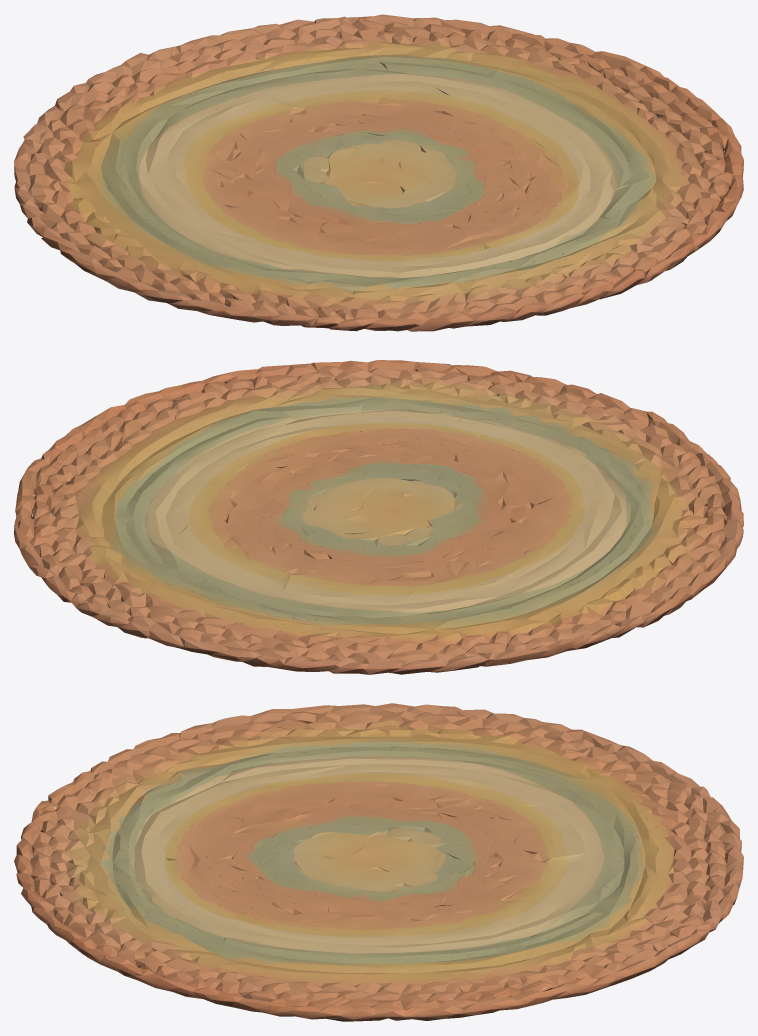
The model's file is RoundRug.glb.
The picture shows the model from 3 angles, top to bottom: view 1: azimuth 30°, elevation 25°; view 2: azimuth 150°, elevation 25°; view 3: azimuth 270°, elevation 25°; orthographic projection.
Visible parts, largest first — view 1: model; view 2: model; view 3: model.
Part boxes in pixels (x1=…): model: x1=14, y1=14, x2=743, y2=331; model: x1=14, y1=360, x2=743, y2=674; model: x1=14, y1=703, x2=743, y2=1021.
Bounding box in the file's own units: 1.85 × 0.0474 × 1.84.
Materials: 1 (1 with a texture image).
